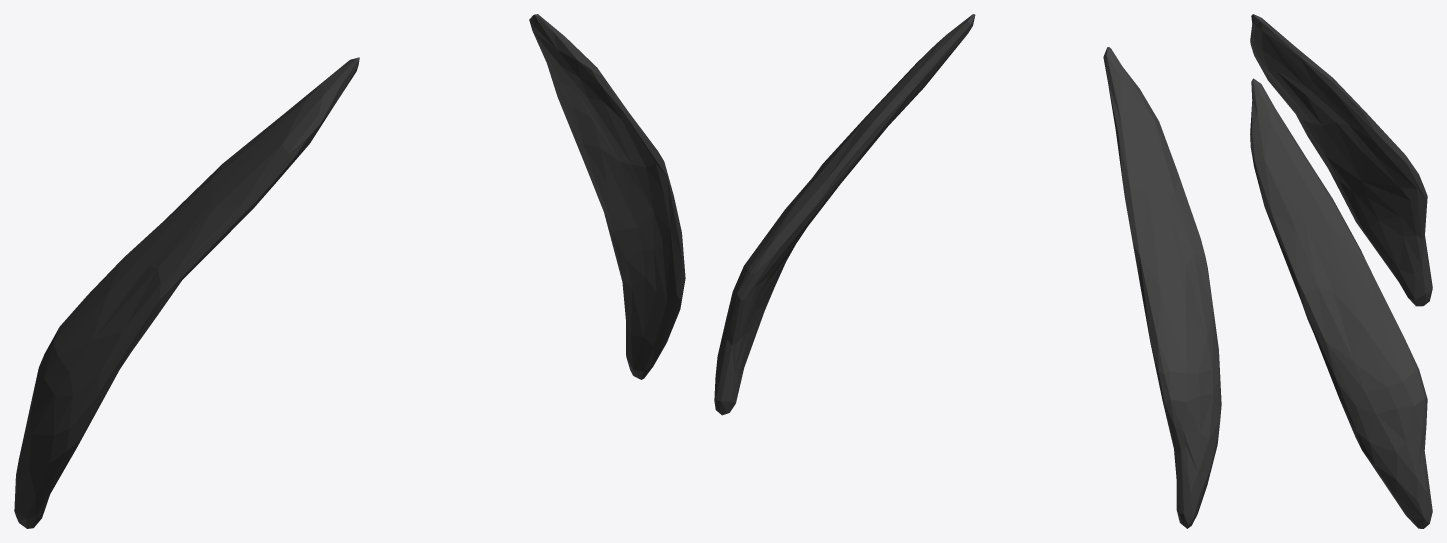
File: m_obliquus_capitis_cranialis.glb
3 views of the same model, side by side, from view 1: azimuth 30°, elevation 25°; view 2: azimuth 150°, elevation 25°; view 3: azimuth 270°, elevation 25° (orthographic). The views are drawn at different scales.
Parts seen in each view (by area): view 1: m_obliquus_capitis_cranialis; view 2: m_obliquus_capitis_cranialis; view 3: m_obliquus_capitis_cranialis.
Part boxes in pixels (left/top/right/bottom): m_obliquus_capitis_cranialis: left=14, top=14, right=685, bottom=528; m_obliquus_capitis_cranialis: left=714, top=14, right=1221, bottom=528; m_obliquus_capitis_cranialis: left=1250, top=14, right=1432, bottom=528.
Size of the model in its own units: 0.00228 by 0.0017 by 0.000757.
1 material, 1 textured.
